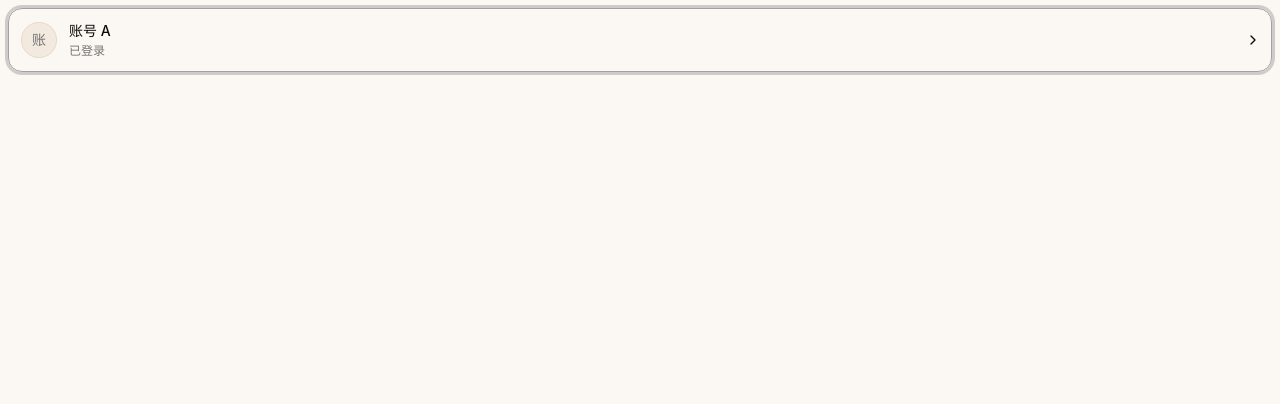
sidebar account entry › leaves save failures visible in the sidebar and retains the current account
The width and height of the screenshot is (1280, 404).
Press Enter in the button with aria-label "账号菜单", box 8,8 -> 1272,72
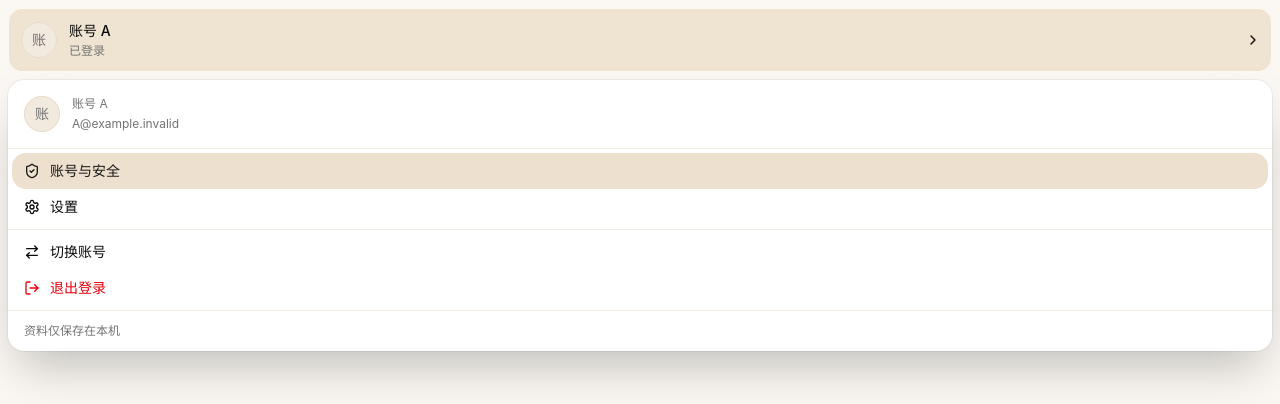
Click the menu item "退出登录" at {"x": 65, "y": 288}, box 24,279 -> 106,296
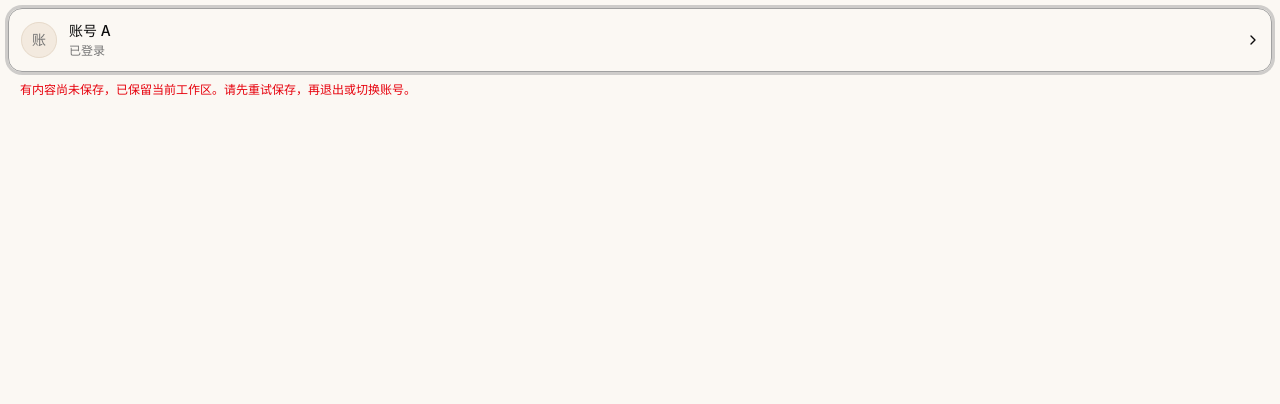
Expected: the button with aria-label "账号菜单：账号 A" is enabled, 8,8 -> 1272,72
Expected: the message shows "有内容尚未保存", 20,82 -> 416,97
Expected: the menu is gone
